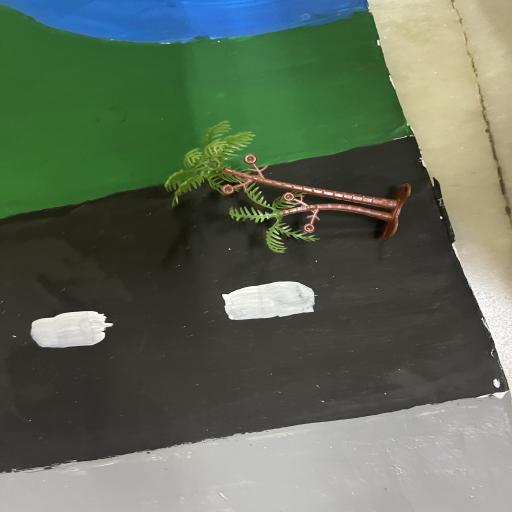fallen trees: (173, 121, 412, 246)
